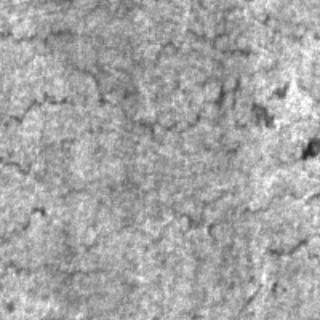crazing: (1, 5, 290, 113), (0, 154, 248, 276), (0, 67, 244, 177), (202, 187, 318, 259)
